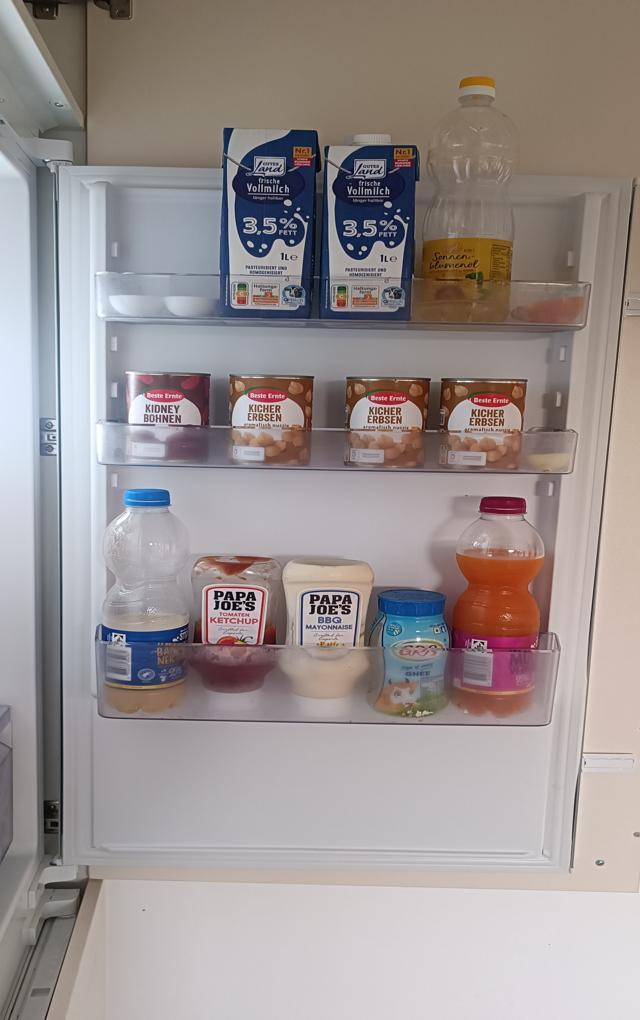bananajuice: (102, 486, 192, 714)
chickpeas: (226, 373, 316, 470), (345, 377, 429, 471), (440, 380, 523, 467)
ghee: (371, 582, 448, 720)
kidneybeans: (123, 372, 213, 465)
mayoniasie: (281, 554, 374, 719)
milk: (220, 125, 320, 320), (319, 133, 419, 320)
oil: (423, 75, 519, 323)
orangejuice: (452, 495, 544, 718)
tomatoketchup: (189, 551, 283, 716)
